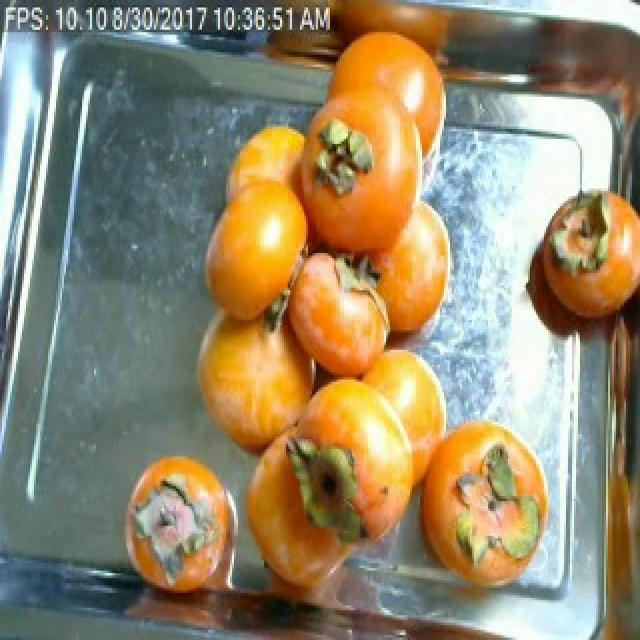Fruit: (514, 173, 640, 364)
